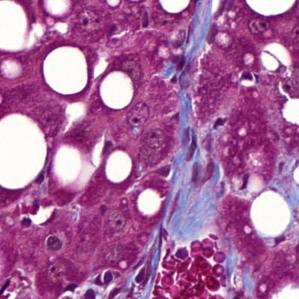steatosis: (43, 46, 93, 96), (97, 68, 138, 112), (102, 148, 136, 184)
